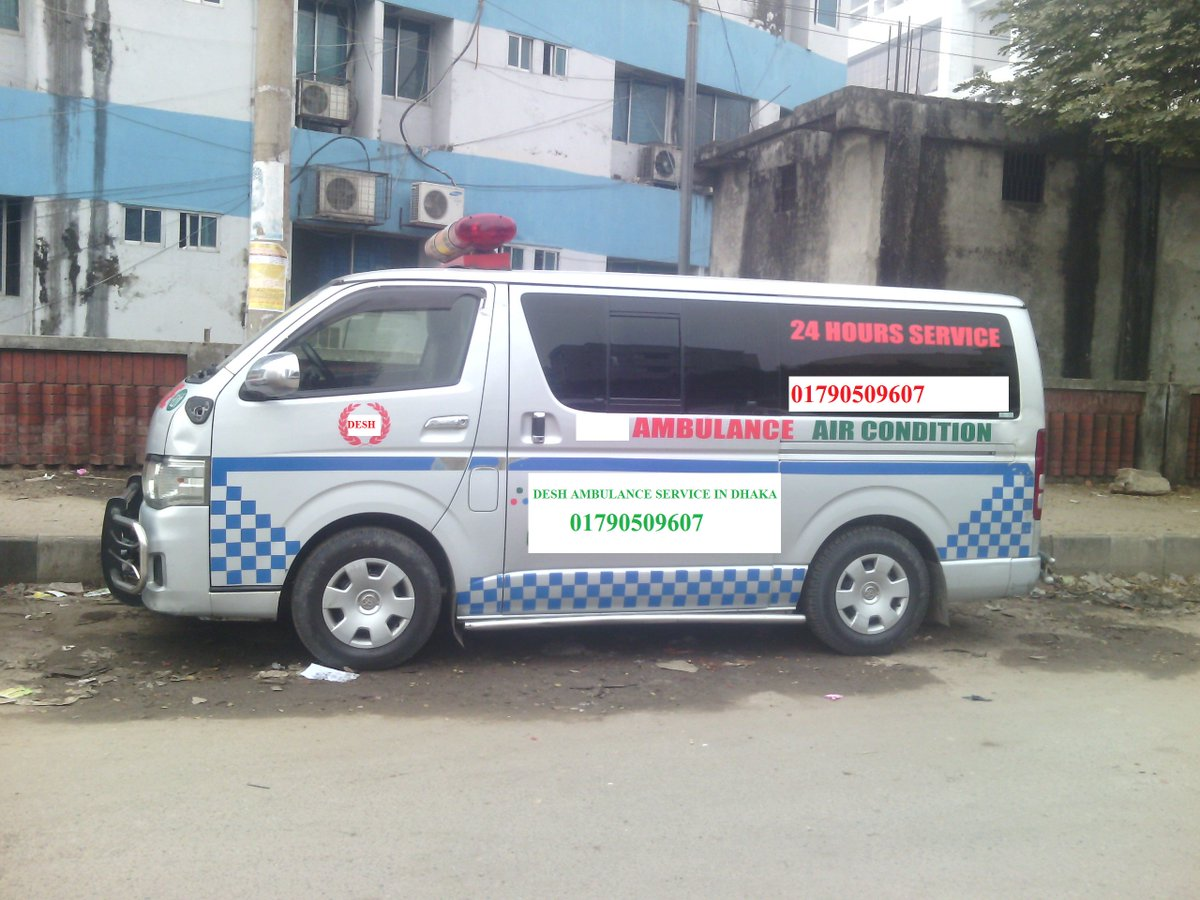ambulance: (98, 213, 1052, 668)
